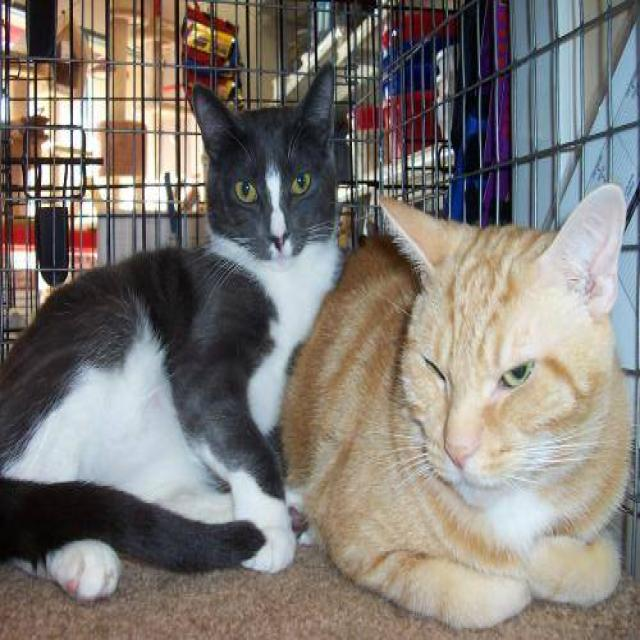cat: (0, 60, 346, 602), (276, 181, 634, 630)
